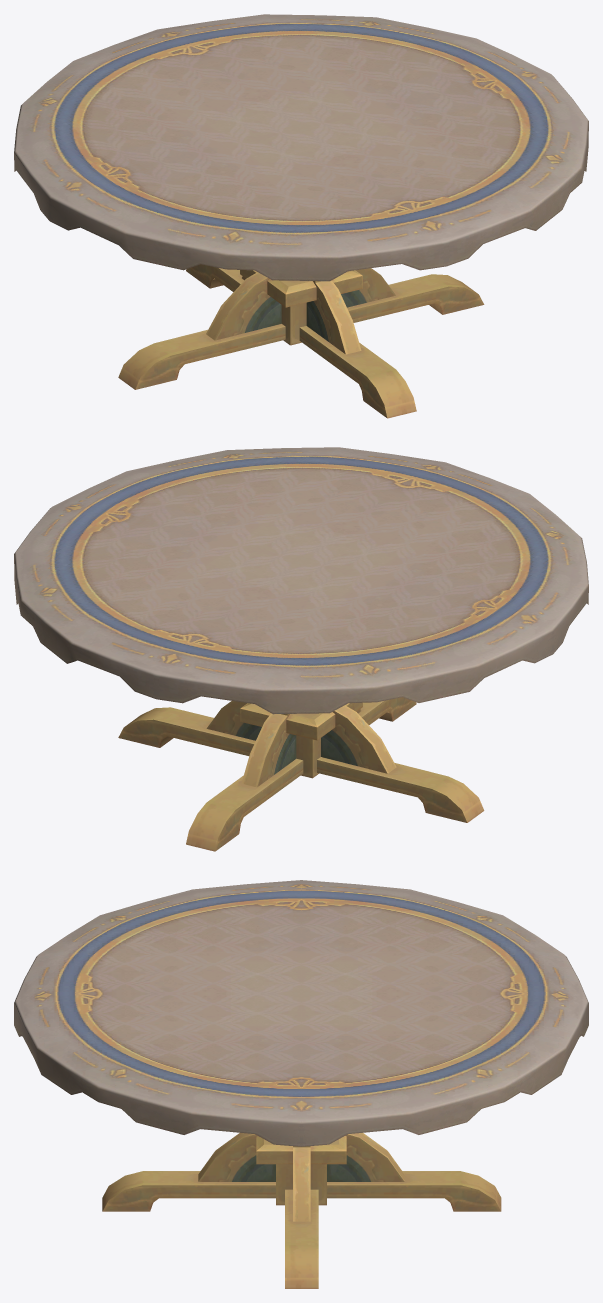
The model's file is Homeworld_Exterior_Fd_Table_Prop_CafeZhuo_01_Vo.fbx.
The picture shows the model from 3 angles, top to bottom: view 1: azimuth 30°, elevation 25°; view 2: azimuth 150°, elevation 25°; view 3: azimuth 270°, elevation 25°; orthographic projection.
Parts seen in each view (by area): view 1: Area_Fd_Prop_FDC_Table_01_Vo; view 2: Area_Fd_Prop_FDC_Table_01_Vo; view 3: Area_Fd_Prop_FDC_Table_01_Vo.
Part boxes in pixels (box(x1,y1,x2,y2)): Area_Fd_Prop_FDC_Table_01_Vo: box(14, 14, 588, 418); Area_Fd_Prop_FDC_Table_01_Vo: box(14, 447, 588, 851); Area_Fd_Prop_FDC_Table_01_Vo: box(14, 880, 588, 1288).
Size of the model in its own units: 1.89 by 0.7638 by 1.89.
